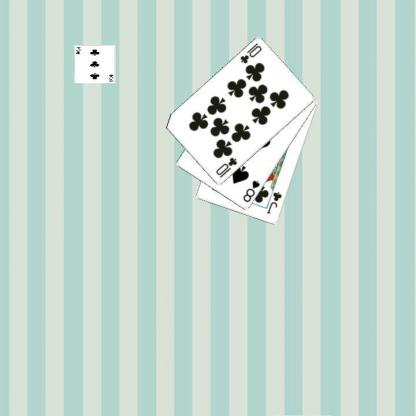10C: (237, 40, 263, 66), (213, 155, 238, 179)
8S: (240, 178, 262, 204)
JC: (265, 190, 283, 216)
